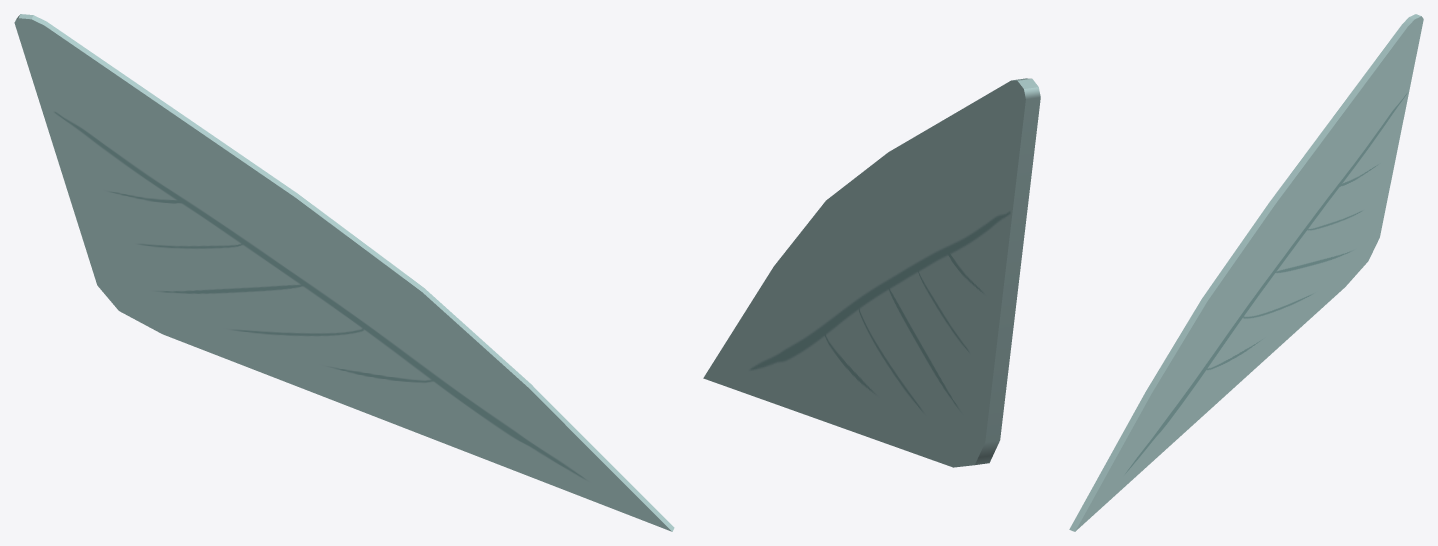
File: Ala1.obj
The picture shows the model from 3 angles, left to right: view 1: azimuth 30°, elevation 25°; view 2: azimuth 150°, elevation 25°; view 3: azimuth 270°, elevation 25°; orthographic projection. The views are drawn at different scales.
Parts seen in each view (by area): view 1: pCube1; view 2: pCube1; view 3: pCube1.
Boxes of the visible parts, left/top/right/bottom form: pCube1: left=14, top=14, right=674, bottom=531; pCube1: left=703, top=78, right=1040, bottom=467; pCube1: left=1069, top=14, right=1423, bottom=531.
Size of the model in its own units: 1.48 by 1.46 by 1.33.
Materials: 1 (1 with a texture image).
